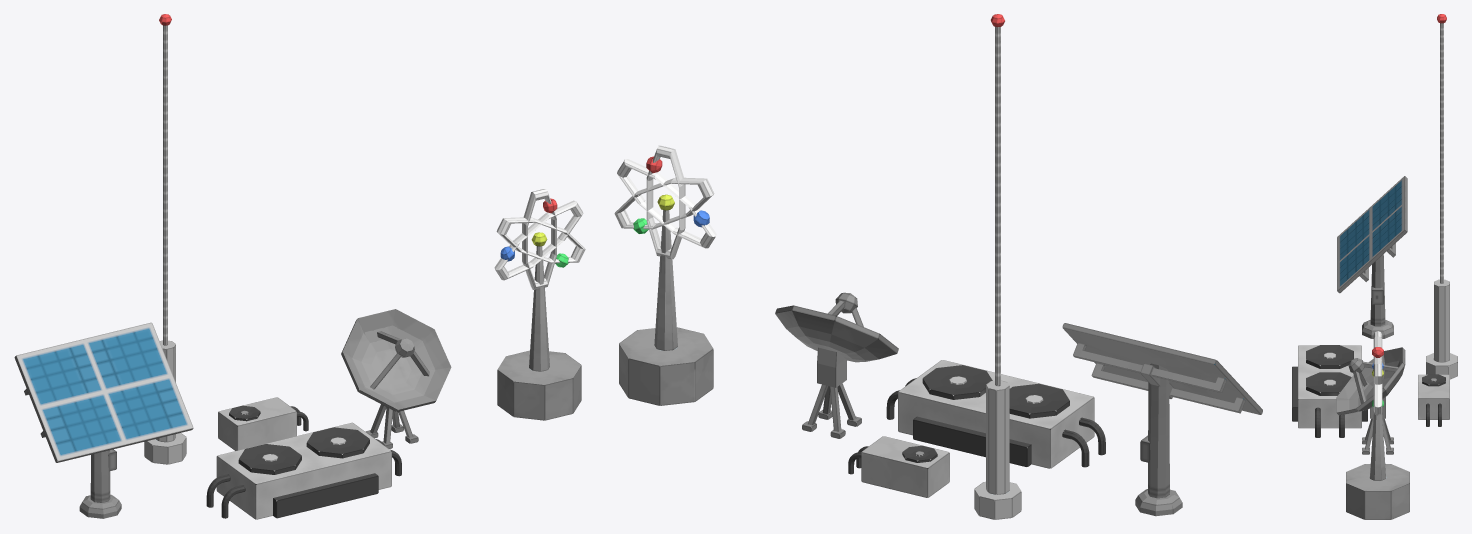
Rendered from buildings props.fbx.
The picture shows the model from 3 angles, left to right: view 1: azimuth 30°, elevation 25°; view 2: azimuth 150°, elevation 25°; view 3: azimuth 270°, elevation 25°; orthographic projection. The views are drawn at different scales.
Parts seen in each view (by area): view 1: cuboid_1, cylinder_1, cuboid_12, cylinder_12, cylinder_11, cuboid_11, cuboid_13, cylinder, cylinder_5, cylinder_6, torus_1, torus (+1 smaller); view 2: cylinder_12, cuboid_1, cuboid_12, cylinder_11, cylinder_1, cuboid_11, cylinder, cuboid_13, cylinder_6, cylinder_5, torus_1, torus (+2 smaller); view 3: cuboid_1, cylinder_12, cylinder_11, cuboid_12, cylinder_1, cylinder, cuboid_11, cylinder_5, cylinder_6, cuboid_13, torus_2, cylinder_2 (+2 smaller).
Boxes of the visible parts, bbox=[...] form: cuboid_1: bbox=[14, 322, 193, 462]; cylinder_1: bbox=[341, 309, 451, 411]; cuboid_12: bbox=[216, 422, 391, 519]; cylinder_12: bbox=[497, 246, 581, 420]; cylinder_11: bbox=[144, 25, 186, 464]; cuboid_11: bbox=[218, 397, 296, 450]; cuboid_13: bbox=[273, 473, 378, 518]; cylinder: bbox=[79, 450, 121, 518]; cylinder_5: bbox=[238, 444, 301, 484]; cylinder_6: bbox=[306, 427, 369, 458]; torus_1: bbox=[494, 200, 583, 280]; torus: bbox=[522, 189, 556, 289]; cylinder_12: bbox=[619, 210, 713, 405]; cuboid_1: bbox=[1062, 323, 1262, 414]; cuboid_12: bbox=[898, 360, 1094, 468]; cylinder_11: bbox=[974, 26, 1021, 519]; cylinder_1: bbox=[775, 305, 898, 362]; cuboid_11: bbox=[861, 436, 949, 497]; cylinder: bbox=[1135, 363, 1182, 516]; cuboid_13: bbox=[913, 416, 1031, 466]; cylinder_6: bbox=[922, 365, 992, 399]; cylinder_5: bbox=[1009, 383, 1069, 429]; torus_1: bbox=[617, 159, 716, 248]; torus: bbox=[646, 145, 685, 259]; cuboid_1: bbox=[1337, 176, 1407, 293]; cylinder_12: bbox=[1346, 413, 1409, 519]; cylinder_11: bbox=[1426, 23, 1457, 379]; cuboid_12: bbox=[1298, 345, 1361, 428]; cylinder_1: bbox=[1336, 347, 1405, 415]; cylinder: bbox=[1362, 254, 1393, 338]; cuboid_11: bbox=[1418, 374, 1449, 419]; cylinder_5: bbox=[1306, 345, 1353, 368]; cylinder_6: bbox=[1306, 372, 1351, 395]; cuboid_13: bbox=[1292, 366, 1367, 421]; torus_2: bbox=[1373, 384, 1382, 414]; cylinder_2: bbox=[1422, 374, 1445, 386].
Bounding box in the file's own units: 1624 × 1244 × 519.
6 materials, 6 textured.
